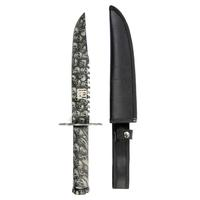knife: (56, 9, 104, 197)
